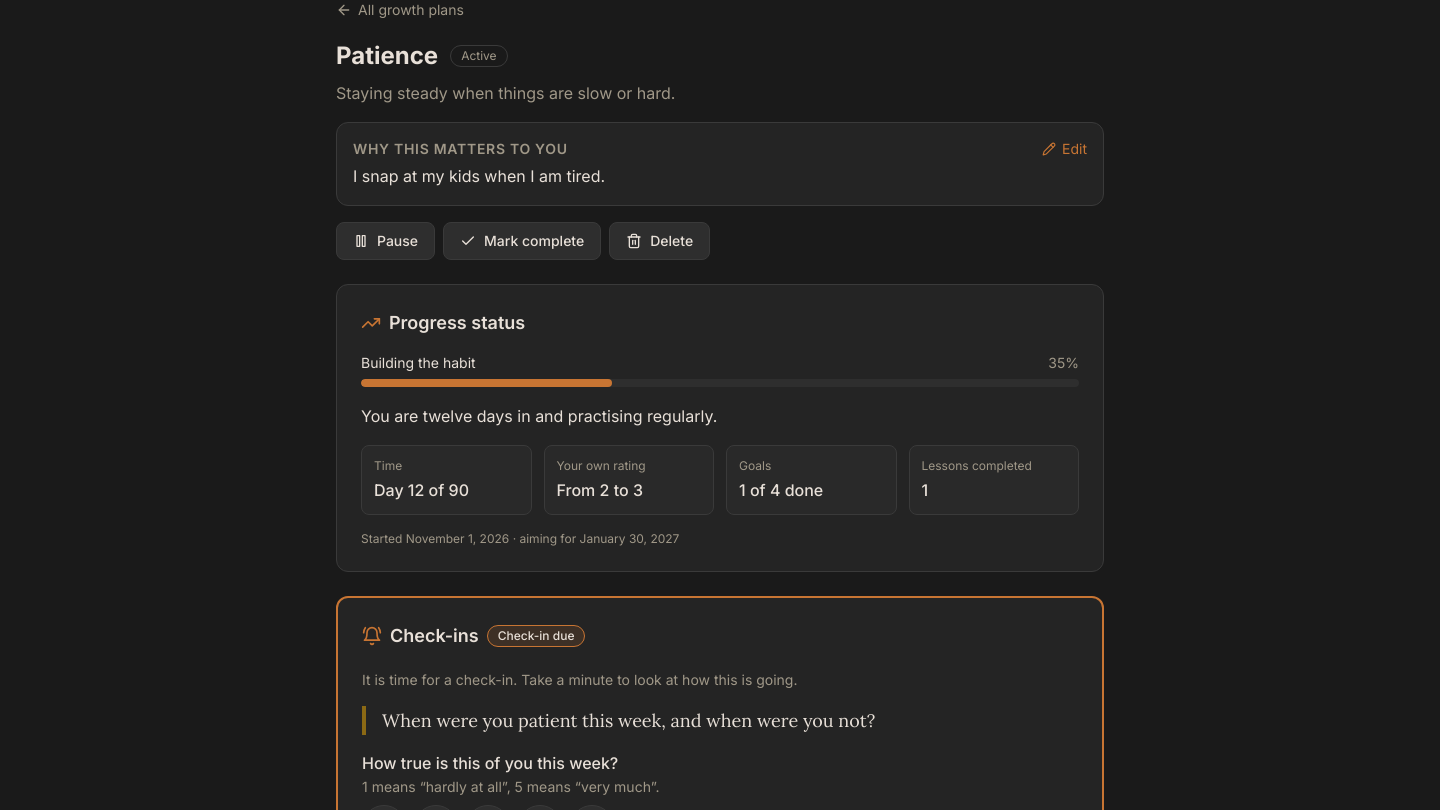
Test: GrowthPlanPage › deletes the plan only after confirmation, then returns to the list
Click the button "Delete" at {"x": 660, "y": 241}, box x1=609 y1=222 x2=710 y2=260
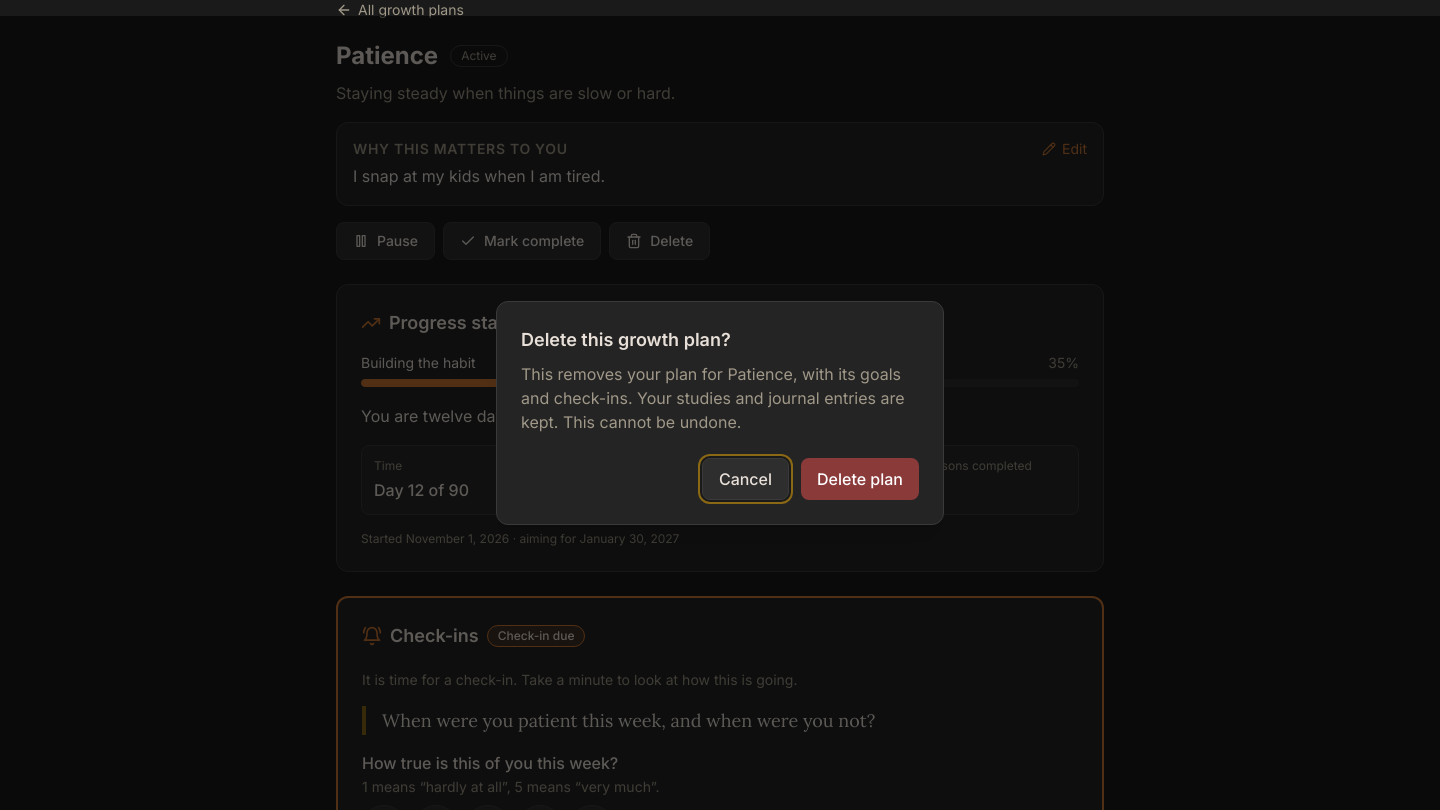
Click the button "Delete plan" at {"x": 860, "y": 479}, box x1=801 y1=458 x2=919 y2=500
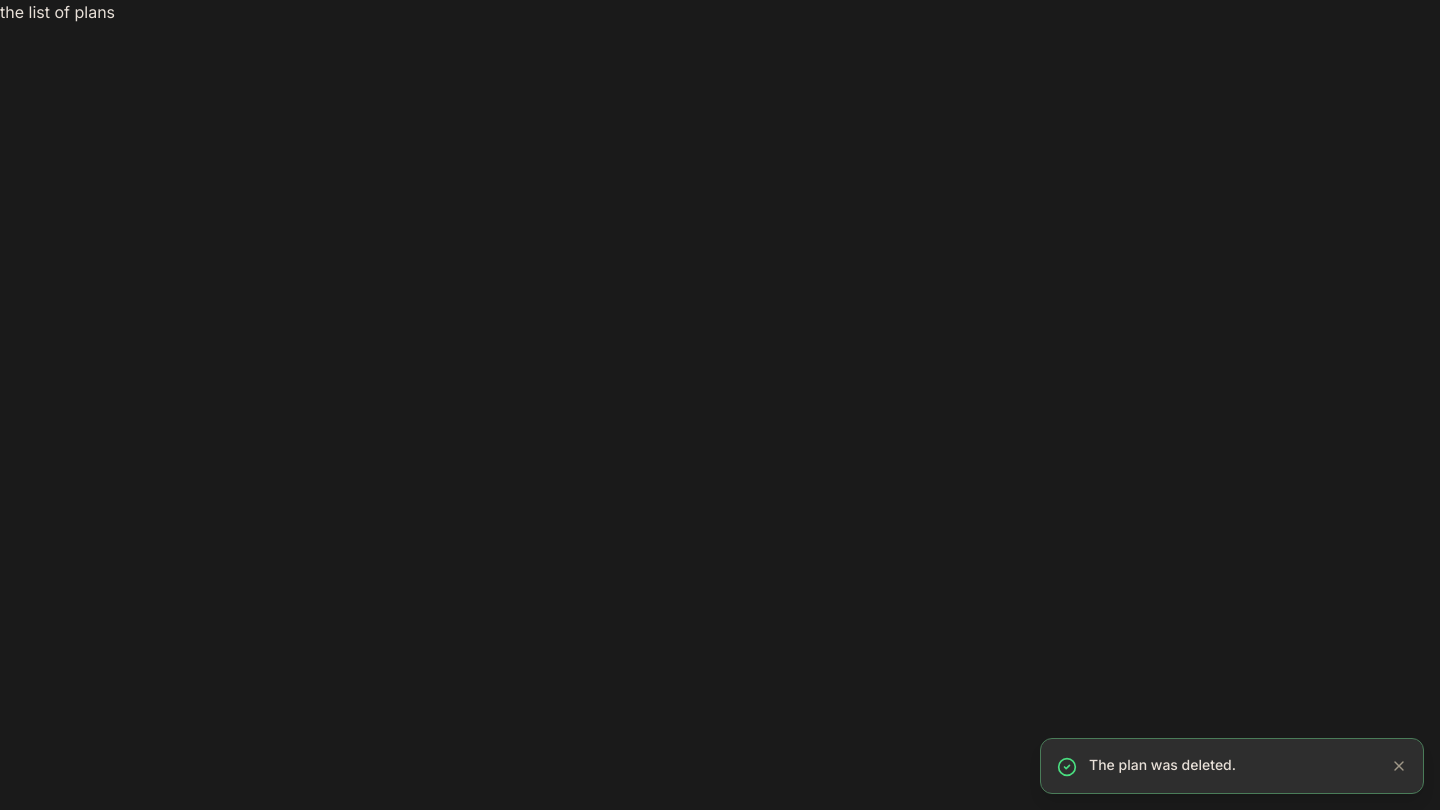
expect the text "the list of plans" is shown: met, box x1=0 y1=2 x2=115 y2=22
